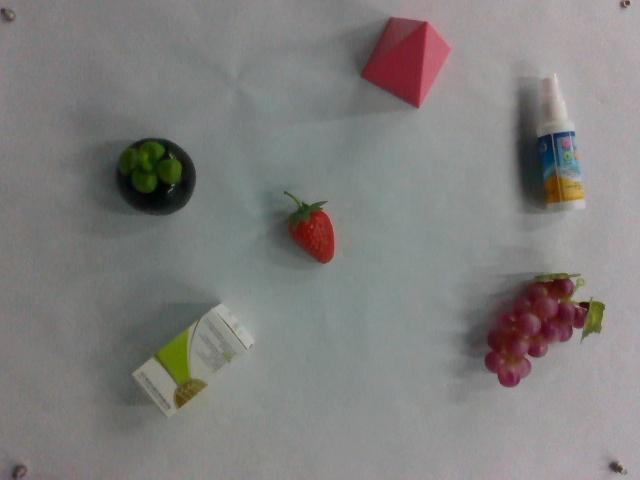carton: (130, 302, 258, 418)
detergent: (532, 71, 587, 218)
grape: (482, 269, 605, 391)
mangosteen: (114, 135, 199, 218)
pyramid: (360, 11, 454, 113)
strawberry: (274, 191, 339, 265)
